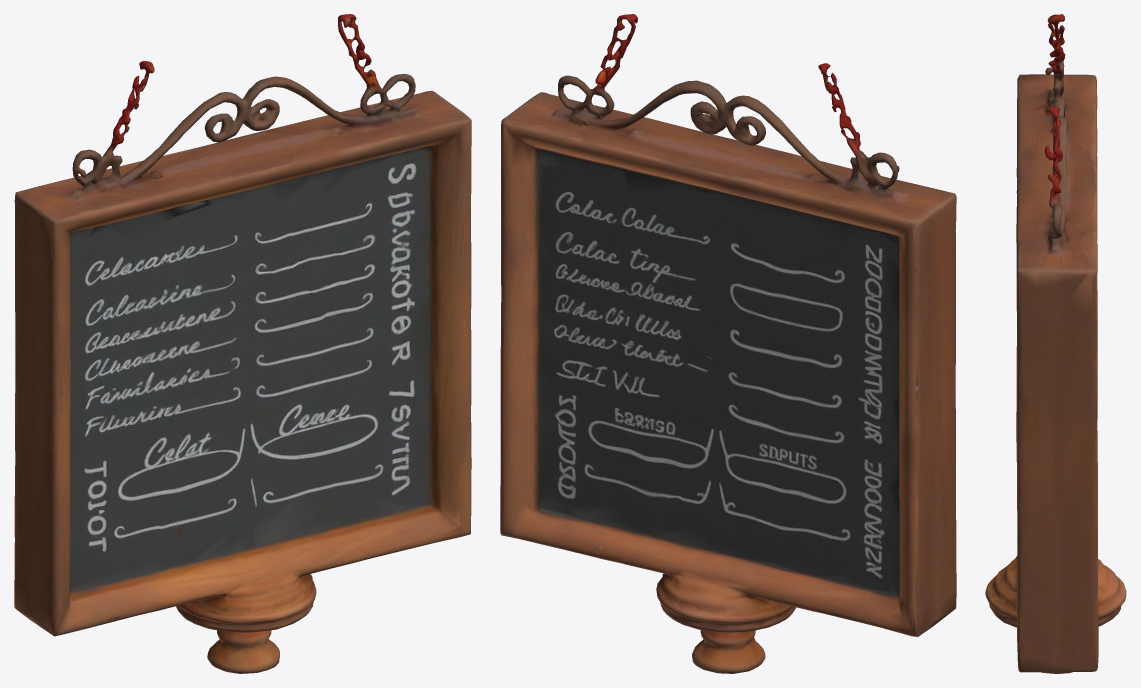
The model's file is cold-stoned-menu-board.glb.
3 renders of one model, left to right at view 1: azimuth 30°, elevation 25°; view 2: azimuth 150°, elevation 25°; view 3: azimuth 270°, elevation 25°, orthographic. The views are drawn at different scales.
Bounding box in the file's own units: 1.41 × 2 × 0.4251.
1 material, 1 textured.
